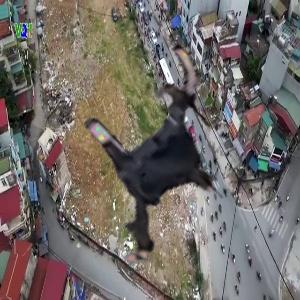drone: (50, 50, 268, 268)
